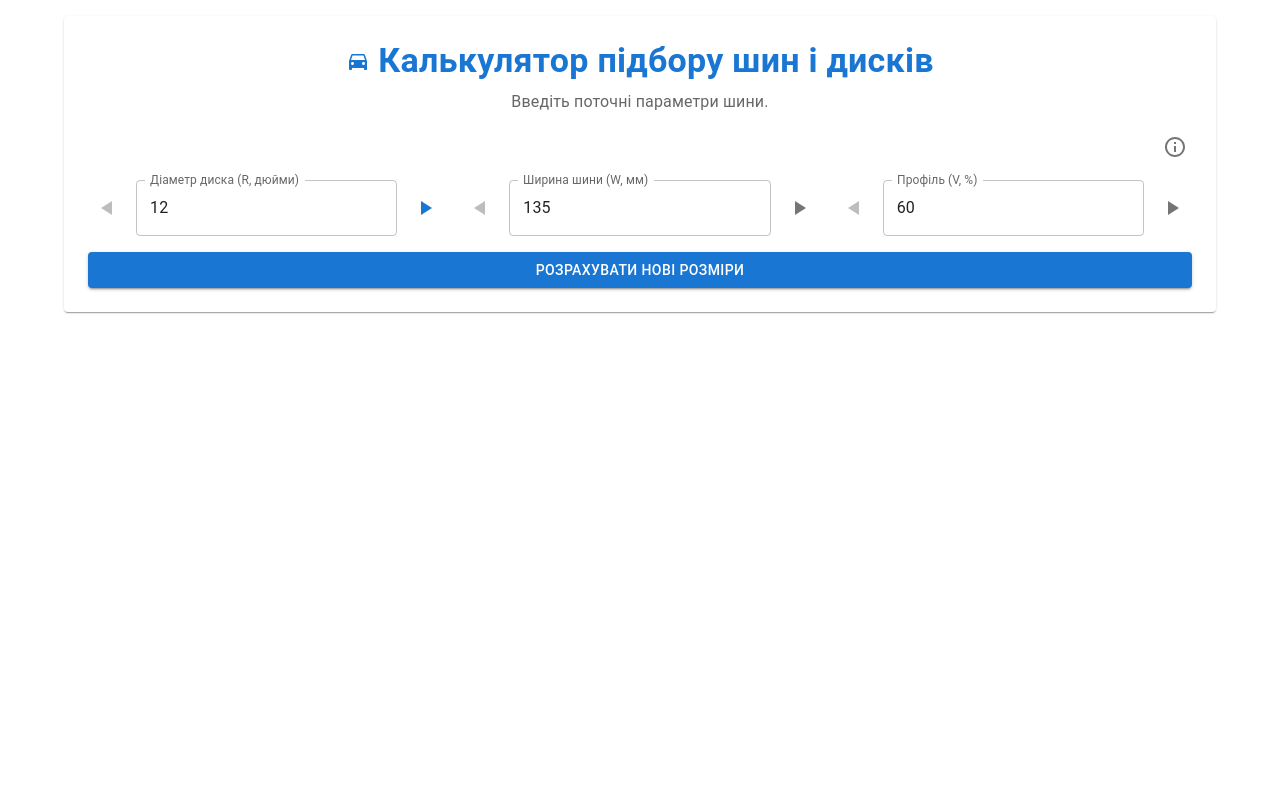
Test case: full flow: click calculate and see results
This screenshot has width=1280, height=800.
Click the button "Розрахувати нові розміри".
click(640, 270)  # box [88,252,1192,288]
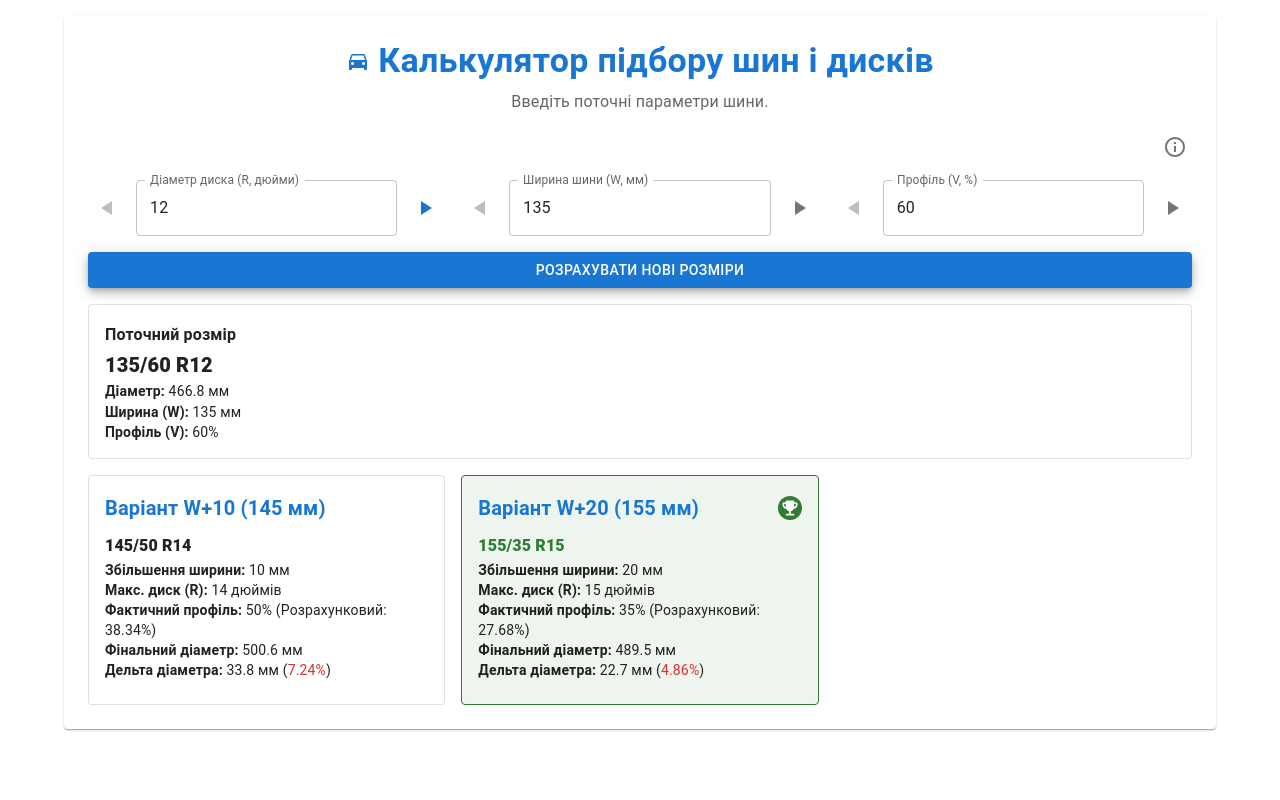
Now the heading "Поточний розмір" is shown, box [105,326,236,344]
